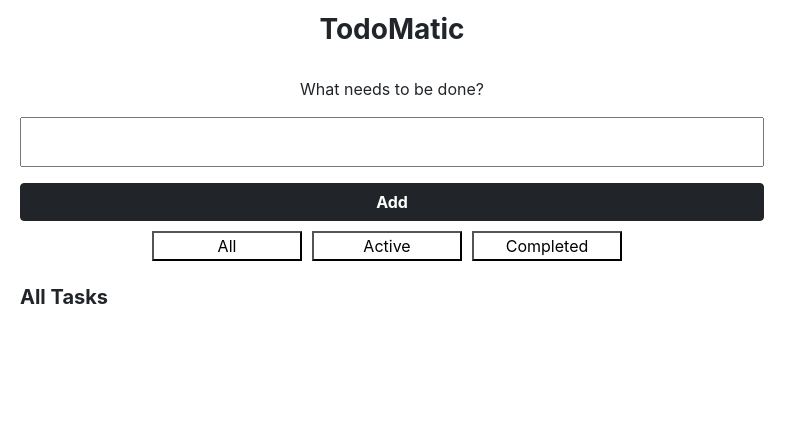
Delete a Task › Deletes the task from the array
This screenshot has width=785, height=442.
In the field with test id "newTask": (392, 142) [20,117,764,167], type "New Task!"
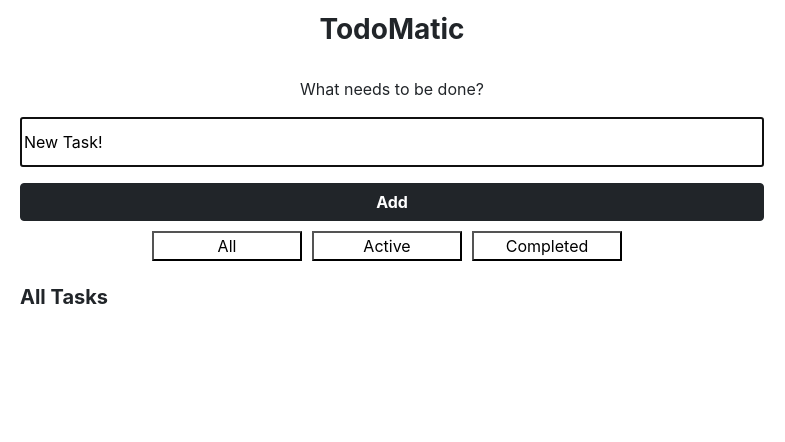
Click the button with test id "addTaskBtn": (392, 202) [20,183,764,221]
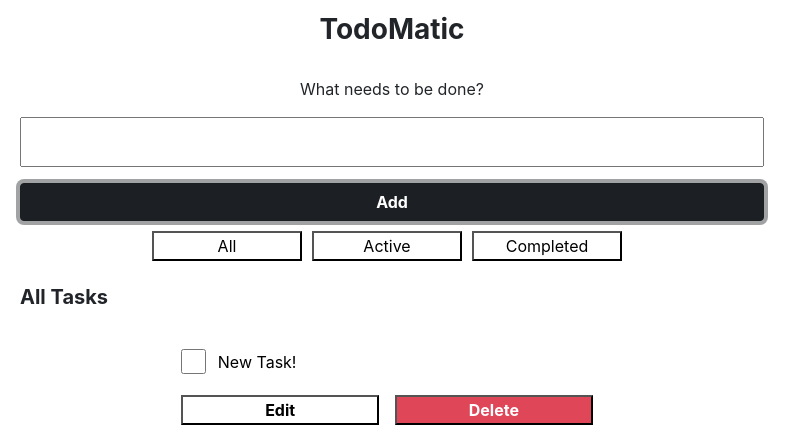
Expected: the field with test id "tasks" holds "New Task!", [216,349,468,375]
Click the button with test id "deleteBtn": (495, 410) [395,395,594,425]
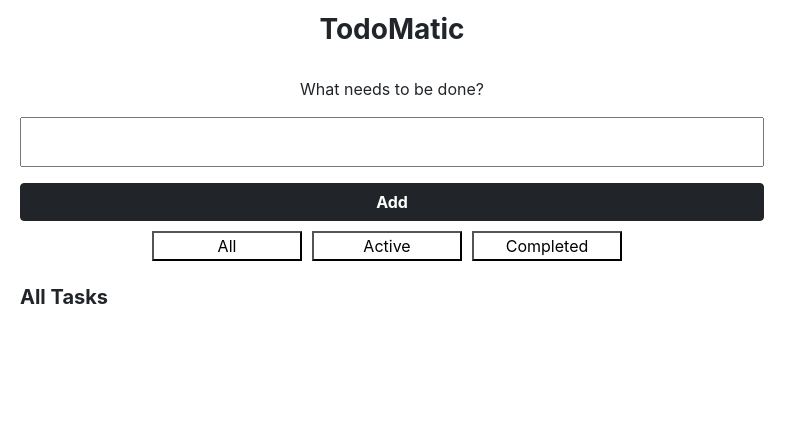
Expected: the field with test id "tasks" is gone
